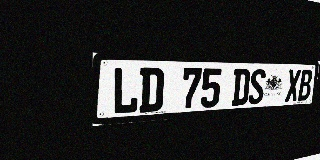5: (200, 68, 222, 108)
7: (180, 68, 202, 110)
B: (298, 70, 313, 101)
D: (139, 68, 164, 113), (231, 69, 251, 106)
L: (112, 67, 139, 115)
S: (248, 69, 266, 105)
X: (285, 69, 301, 102)
